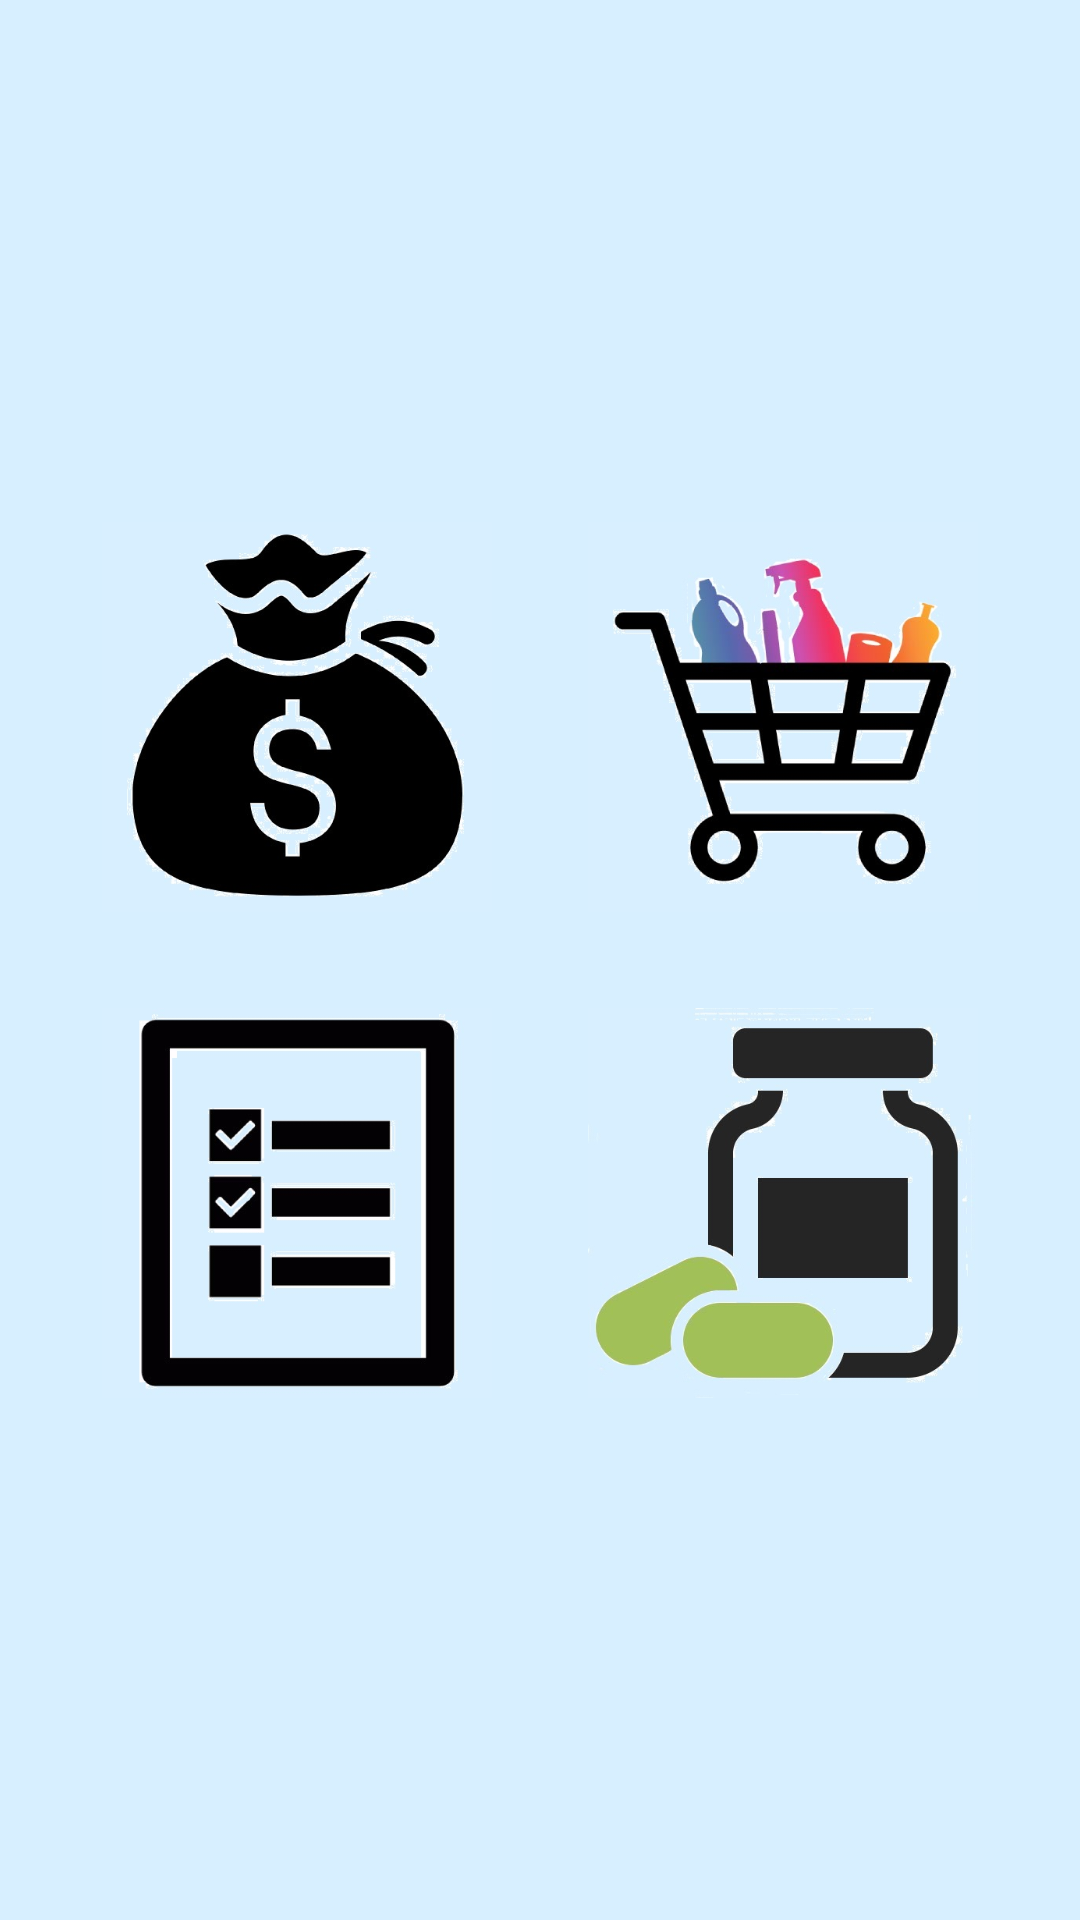

Named icons in this screenshot (1080×1920) and their bounding boxes, (left=x1, top=y1, right=x2, bottom=y2):
Cart: (left=613, top=559, right=956, bottom=884)
